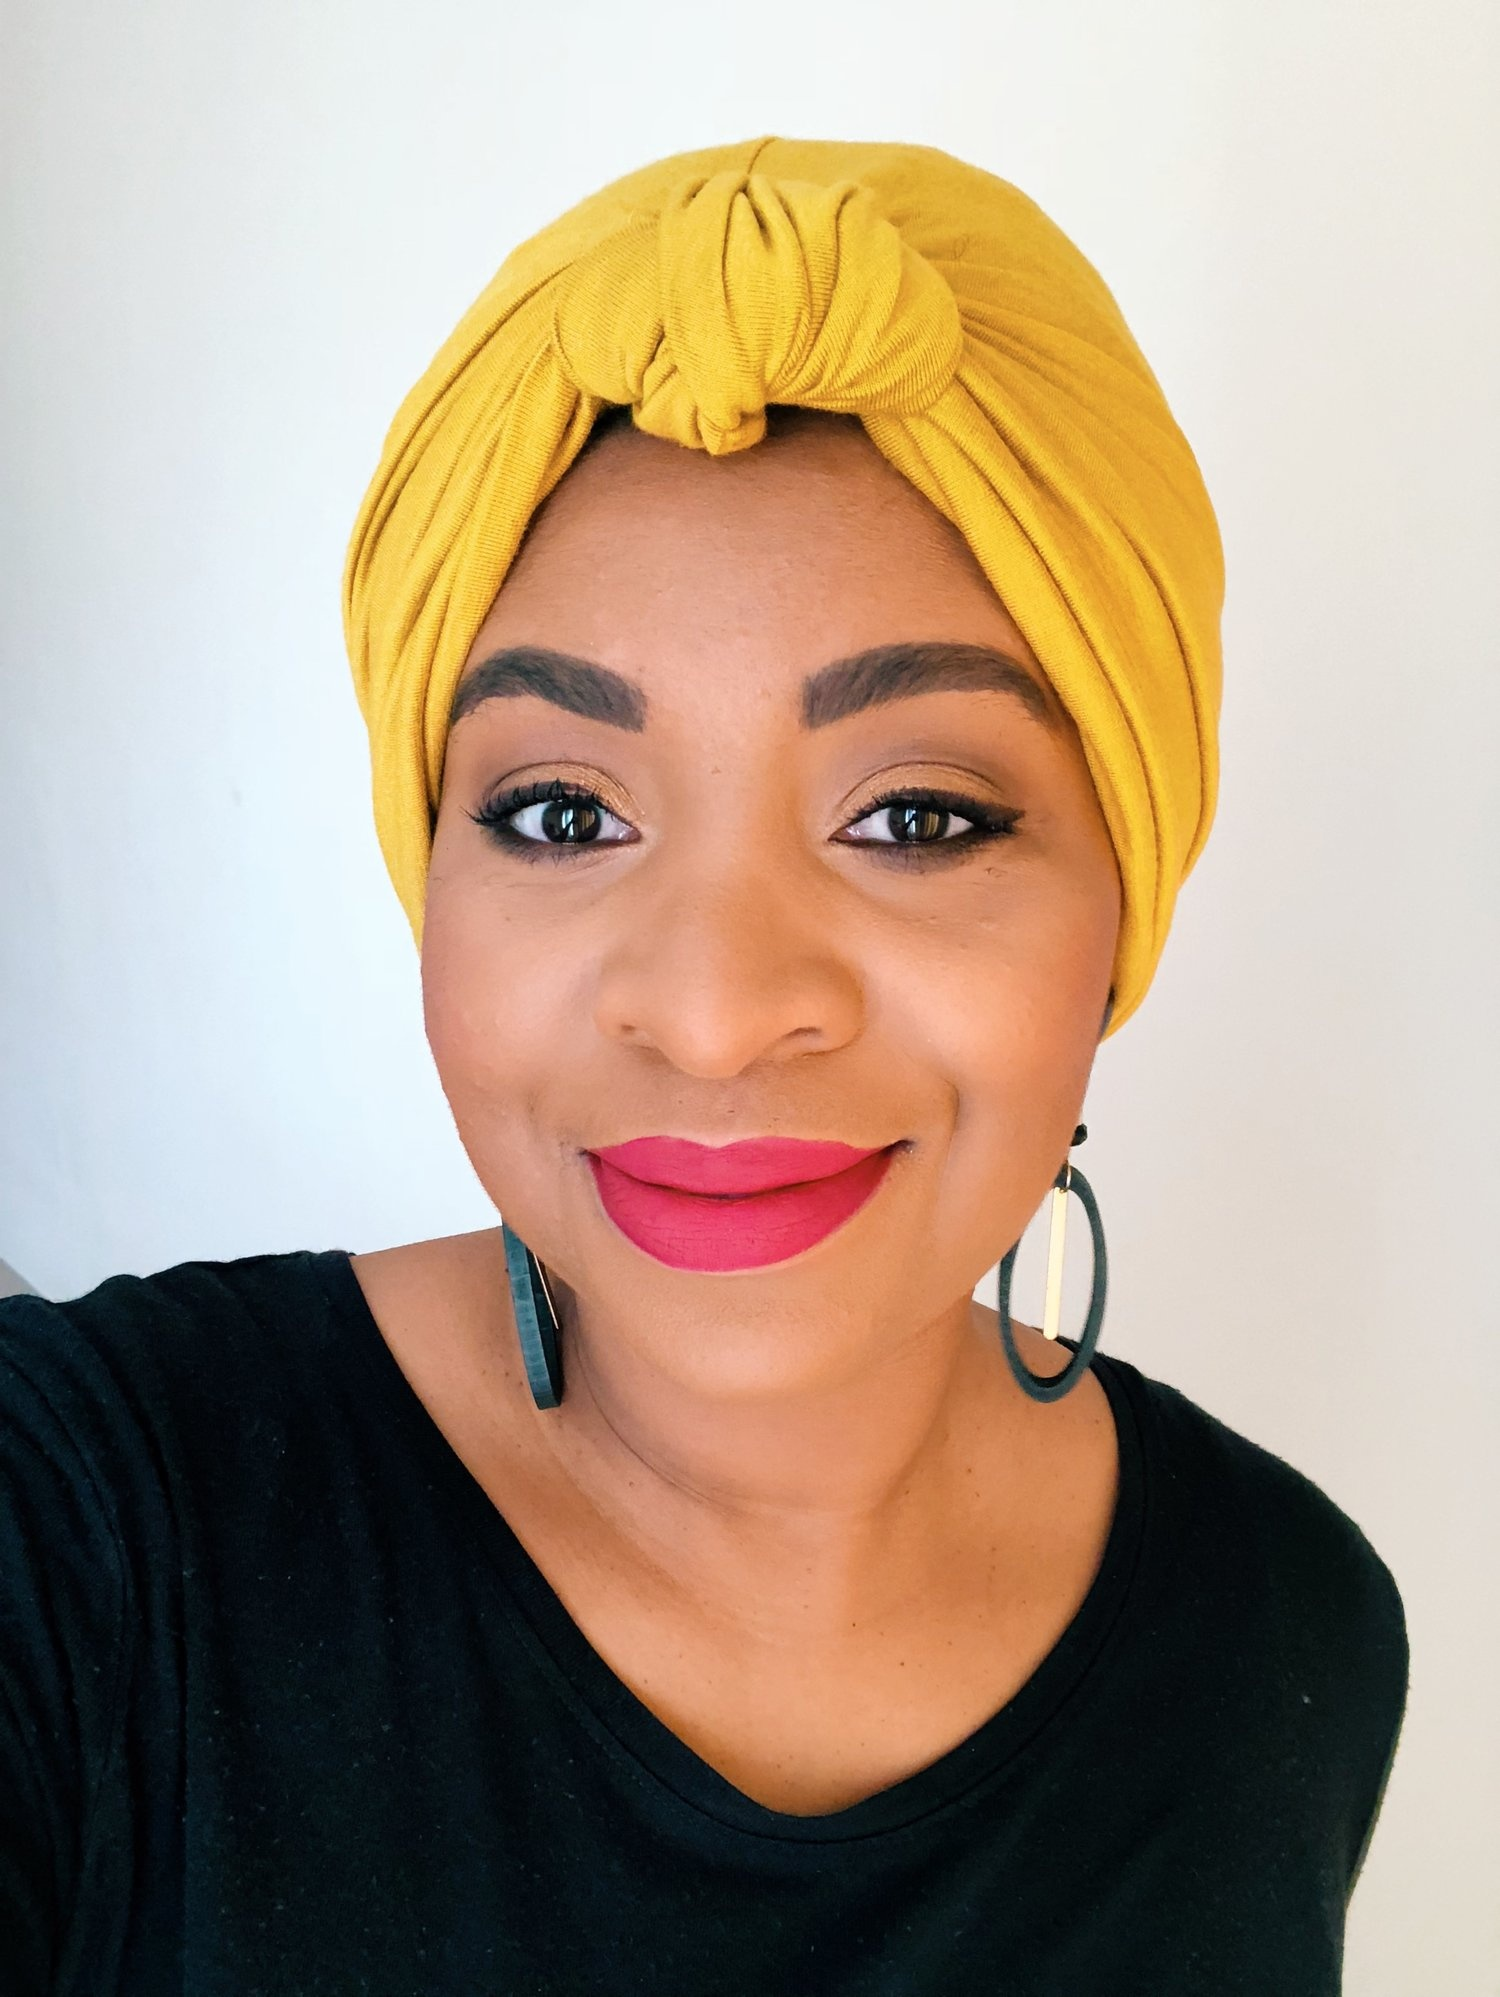person: (331, 133, 1224, 1451)
